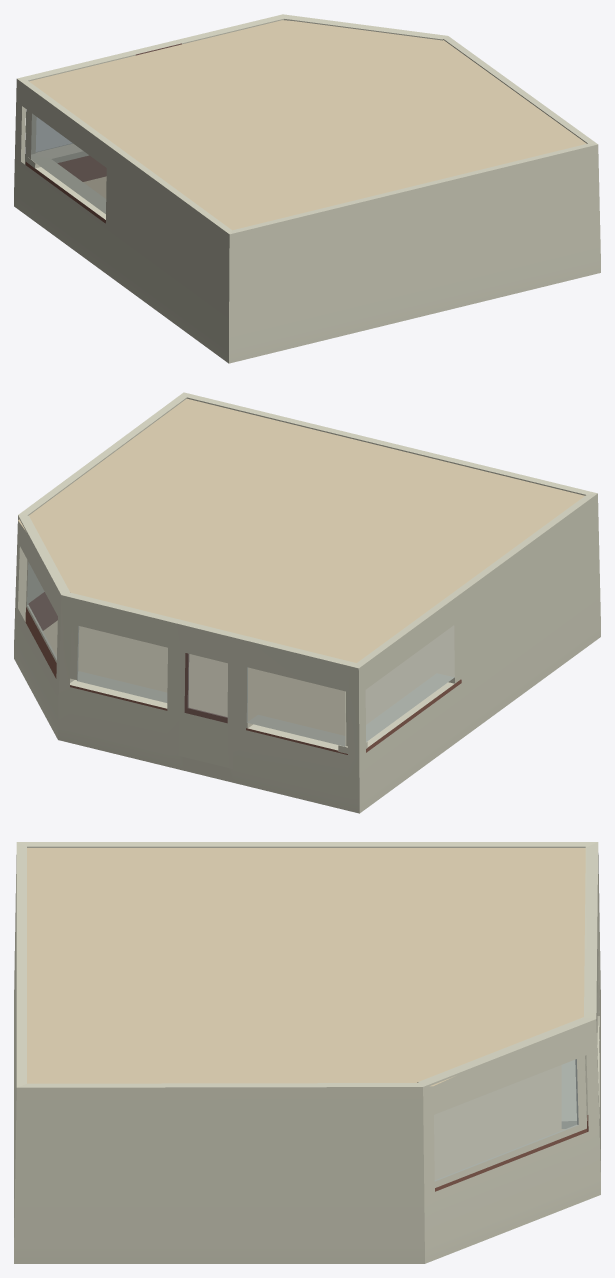
File: SM_Building.fbx
3 views of the same model, one above another, from view 1: azimuth 30°, elevation 25°; view 2: azimuth 150°, elevation 25°; view 3: azimuth 270°, elevation 25° (orthographic). The views are drawn at different scales.
Parts seen in each view (by area): view 1: room; view 2: room; view 3: room.
Part boxes in pixels (left/top/right/bottom): room: left=14, top=14, right=600, bottom=363; room: left=14, top=392, right=600, bottom=813; room: left=14, top=842, right=600, bottom=1263.
Bounding box in the file's own units: 1190 × 392 × 1190.
